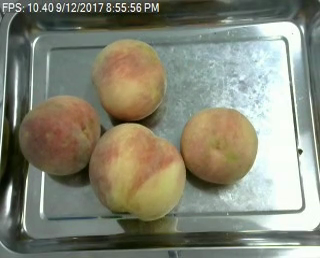Peach: (87, 123, 185, 221), (18, 94, 100, 176), (180, 106, 258, 185), (92, 37, 166, 120)
